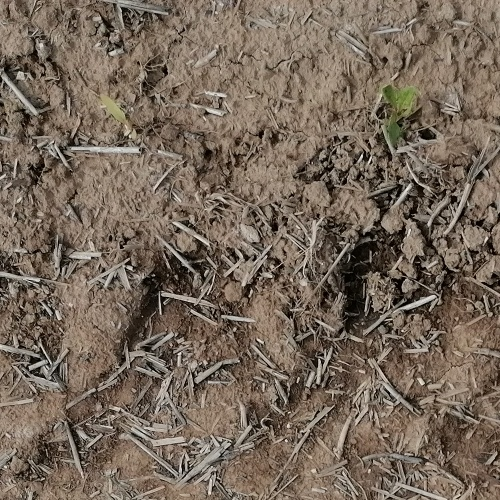beet: (382, 84, 416, 153)
